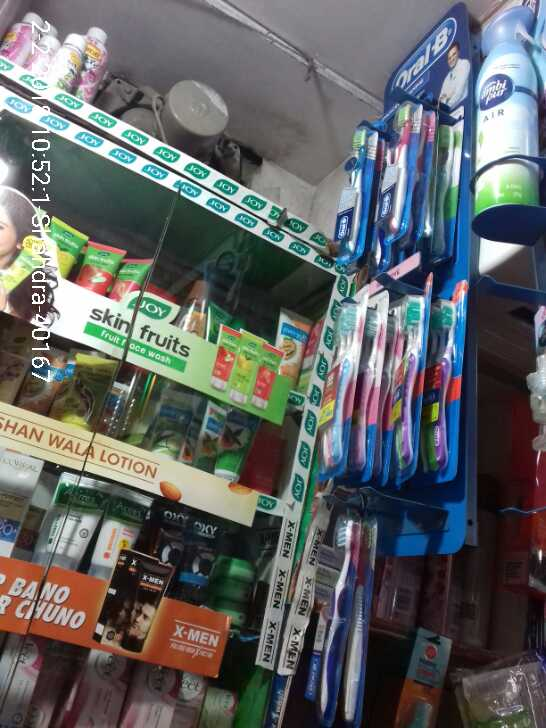ambipure: (476, 2, 543, 232)
